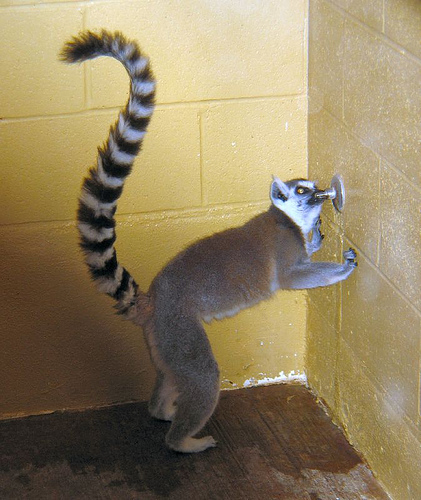cat: (57, 31, 359, 455)
